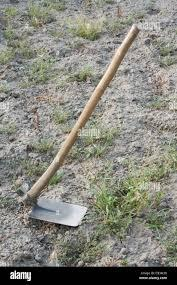HOUE: (8, 21, 177, 255)
